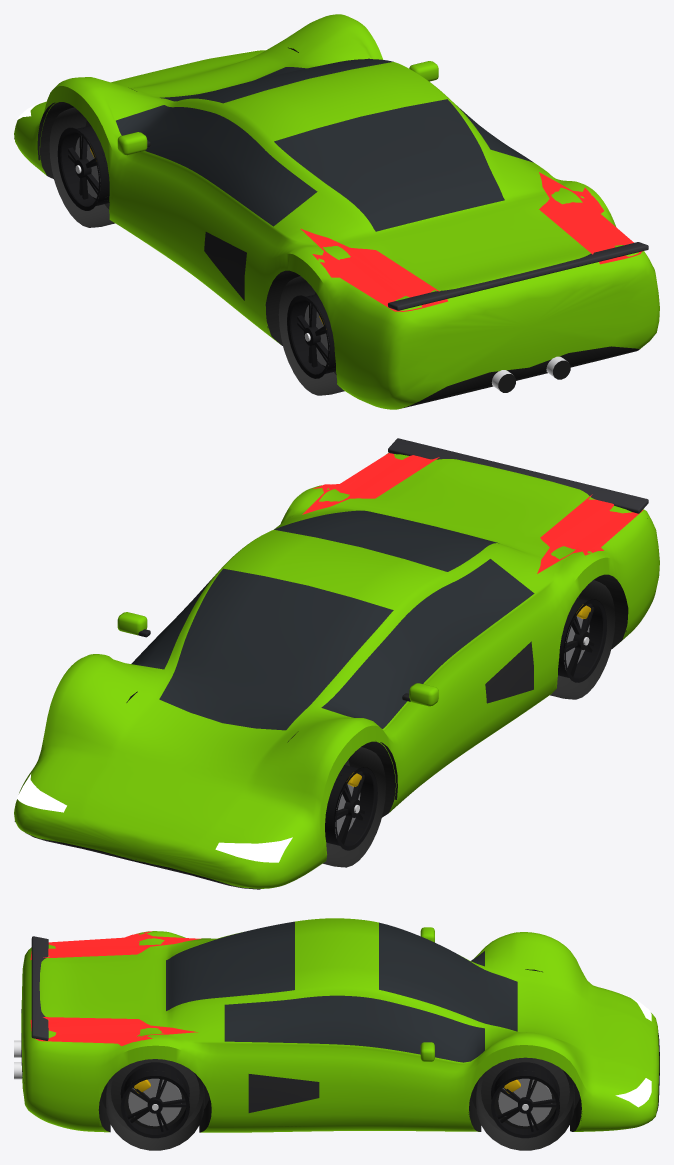
File: huracan_evo.glb
The picture shows the model from 3 angles, top to bottom: view 1: azimuth 30°, elevation 25°; view 2: azimuth 150°, elevation 25°; view 3: azimuth 270°, elevation 25°; orthographic projection. The views are drawn at different scales.
Parts seen in each view (by area): view 1: Body, Wheel_FL, Wheel_RL; view 2: Body, Wheel_FL, Wheel_RL; view 3: Body, Wheel_FR, Wheel_RR.
Part boxes in pixels (x1=…): Body: x1=14, y1=14, x2=659, y2=409; Wheel_FL: x1=49, y1=107, x2=114, y2=227; Wheel_RL: x1=278, y1=276, x2=344, y2=395; Body: x1=14, y1=438, x2=659, y2=889; Wheel_FL: x1=323, y1=747, x2=385, y2=867; Wheel_RL: x1=550, y1=580, x2=615, y2=699; Body: x1=14, y1=918, x2=659, y2=1132; Wheel_FR: x1=476, y1=1057, x2=574, y2=1150; Wheel_RR: x1=106, y1=1059, x2=204, y2=1150.
Bounding box in the file's own units: 2.08 × 1.15 × 4.57.
